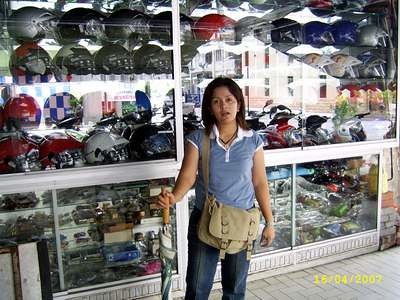helmet: (4, 3, 48, 35), (39, 129, 79, 164), (87, 129, 126, 163), (55, 44, 91, 76), (99, 42, 130, 75), (8, 90, 33, 123), (273, 13, 298, 38), (335, 17, 355, 39), (362, 23, 384, 42)
